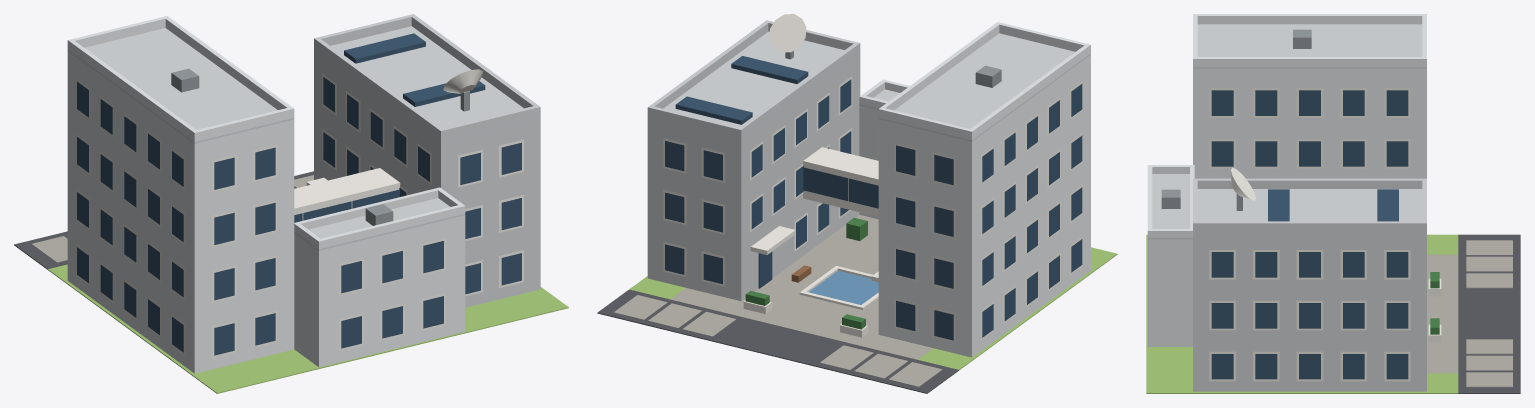
3 views of the same model, side by side, from view 1: azimuth 30°, elevation 25°; view 2: azimuth 150°, elevation 25°; view 3: azimuth 270°, elevation 25° (orthographic). The views are drawn at different scales.
Parts seen in each view (by area): view 1: wall (×3), roof (×3), parapet (×10), window_glass (×18), lawn (×2), bridge, solar_panel (×2), ac_unit (×2), asphalt, dish, parking_bay; view 2: wall (×3), roof (×2), parapet (×8), paving (×3), window_glass (×14), asphalt, parking_bay (×6), bridge, solar_panel (×2), lawn (×2), window_band (×2), water (+4 smaller); view 3: wall (×3), roof (×3), window_glass (×25), parapet (×7), asphalt, parking_bay (×6), lawn (×3), paving, solar_panel (×2), ac_unit (×2), dish.
Boxes of the visible parts, x1=… form: wall (×3): x1=67, y1=49, x2=540, y2=373; roof (×3): x1=67, y1=26, x2=540, y2=250; parapet (×10): x1=67, y1=14, x2=540, y2=249; window_glass (×18): x1=214, y1=142, x2=521, y2=355; lawn (×2): x1=48, y1=264, x2=568, y2=393; bridge: x1=294, y1=168, x2=400, y2=220; solar_panel (×2): x1=344, y1=33, x2=485, y2=106; ac_unit (×2): x1=171, y1=68, x2=393, y2=225; asphalt: x1=14, y1=171, x2=313, y2=269; dish: x1=443, y1=69, x2=483, y2=93; parking_bay: x1=31, y1=236, x2=67, y2=262; wall (×3): x1=647, y1=53, x2=1090, y2=357; roof (×2): x1=647, y1=31, x2=1090, y2=141; parapet (×8): x1=647, y1=20, x2=1090, y2=140; paving (×3): x1=670, y1=215, x2=933, y2=359; window_glass (×14): x1=665, y1=141, x2=953, y2=340; asphalt: x1=597, y1=289, x2=958, y2=393; parking_bay (×6): x1=614, y1=295, x2=942, y2=386; bridge: x1=803, y1=147, x2=878, y2=216; solar_panel (×2): x1=675, y1=56, x2=808, y2=124; lawn (×2): x1=629, y1=270, x2=1093, y2=370; window_band (×2): x1=803, y1=167, x2=878, y2=208; water: x1=809, y1=270, x2=878, y2=304; wall (×3): x1=1147, y1=68, x2=1426, y2=391; roof (×3): x1=1147, y1=24, x2=1426, y2=239; window_glass (×25): x1=1211, y1=90, x2=1408, y2=379; parapet (×7): x1=1147, y1=14, x2=1422, y2=237; asphalt: x1=1458, y1=234, x2=1520, y2=393; parking_bay (×6): x1=1466, y1=240, x2=1512, y2=387; lawn (×3): x1=1146, y1=234, x2=1458, y2=393; paving: x1=1427, y1=254, x2=1458, y2=373; solar_panel (×2): x1=1268, y1=189, x2=1398, y2=221; ac_unit (×2): x1=1161, y1=29, x2=1311, y2=208; dish: x1=1231, y1=167, x2=1255, y2=200.
Bounding box in the file's own units: 24 × 15.96 × 24.
